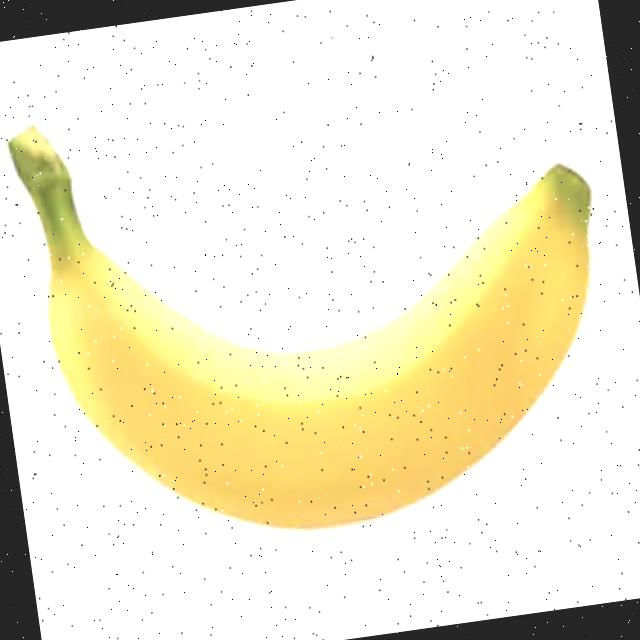Ripe: (12, 46, 640, 568)
